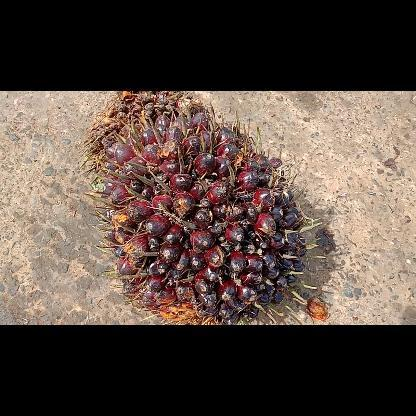Kurang masak: (87, 102, 326, 324)
TBS abnormal: (78, 90, 206, 186)
